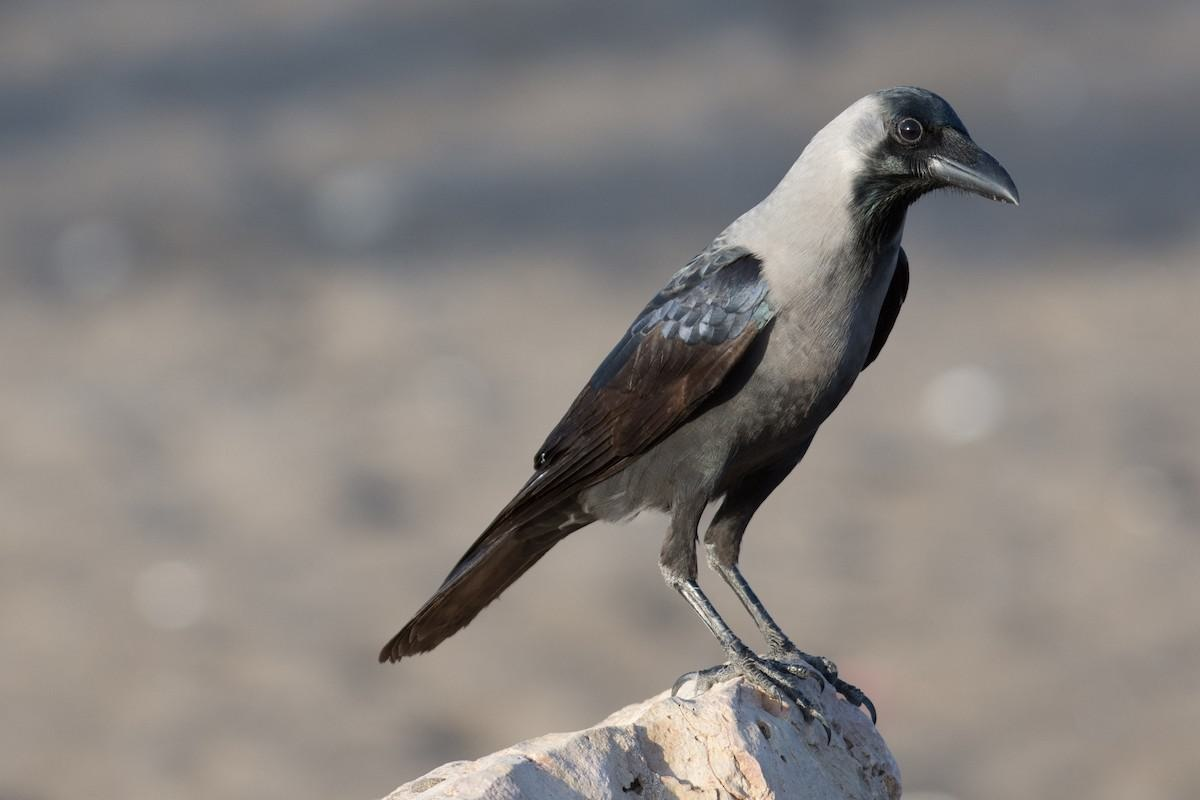crow: (364, 31, 1064, 738)
